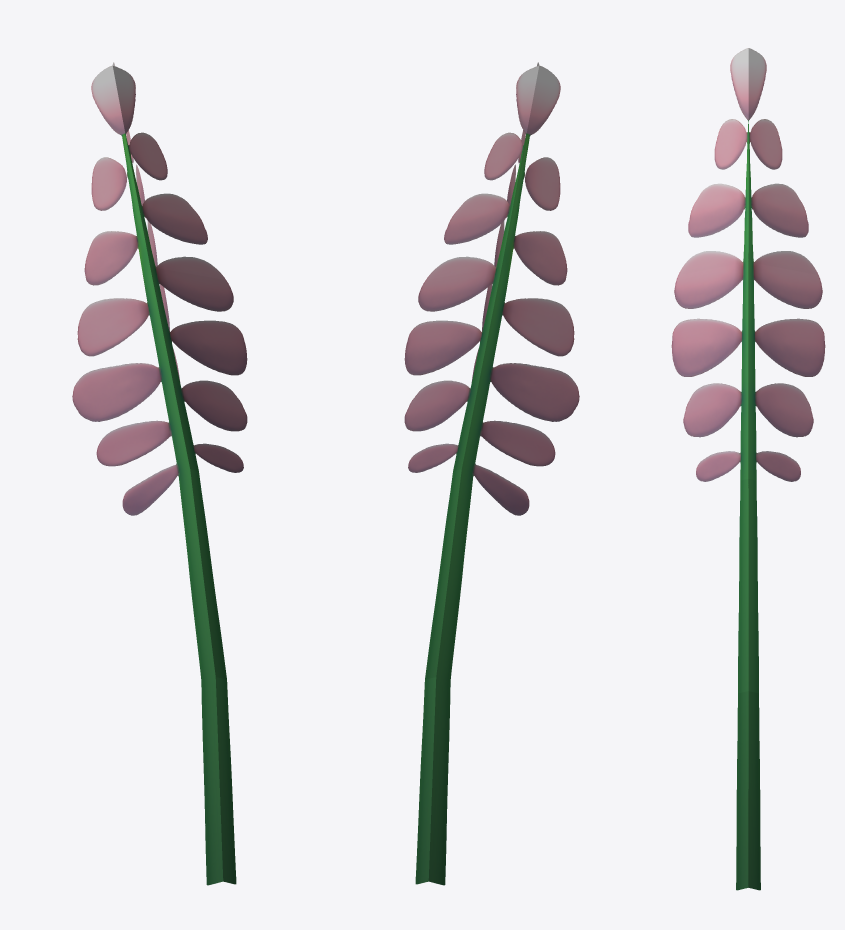
The model's file is veg_Flower_C.fbx.
The picture shows the model from 3 angles, left to right: view 1: azimuth 30°, elevation 25°; view 2: azimuth 150°, elevation 25°; view 3: azimuth 270°, elevation 25°; orthographic projection. The views are drawn at different scales.
Visible parts, largest first — view 1: veg_Flower_C; view 2: veg_Flower_C; view 3: veg_Flower_C.
Part boxes in pixels (x1,y1,x2,y2): veg_Flower_C: (72,62,247,885); veg_Flower_C: (404,62,579,885); veg_Flower_C: (671,48,825,890).
Bounding box in the file's own units: 35.48 × 115 × 21.36.
